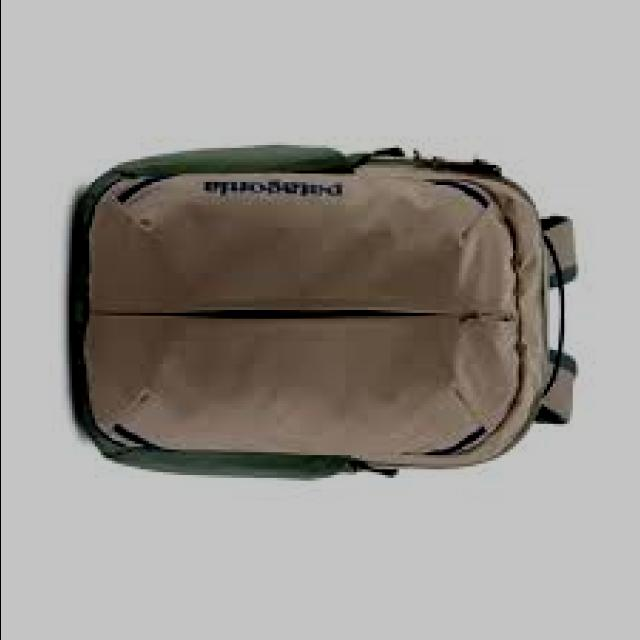backpack: (72, 144, 581, 482)
